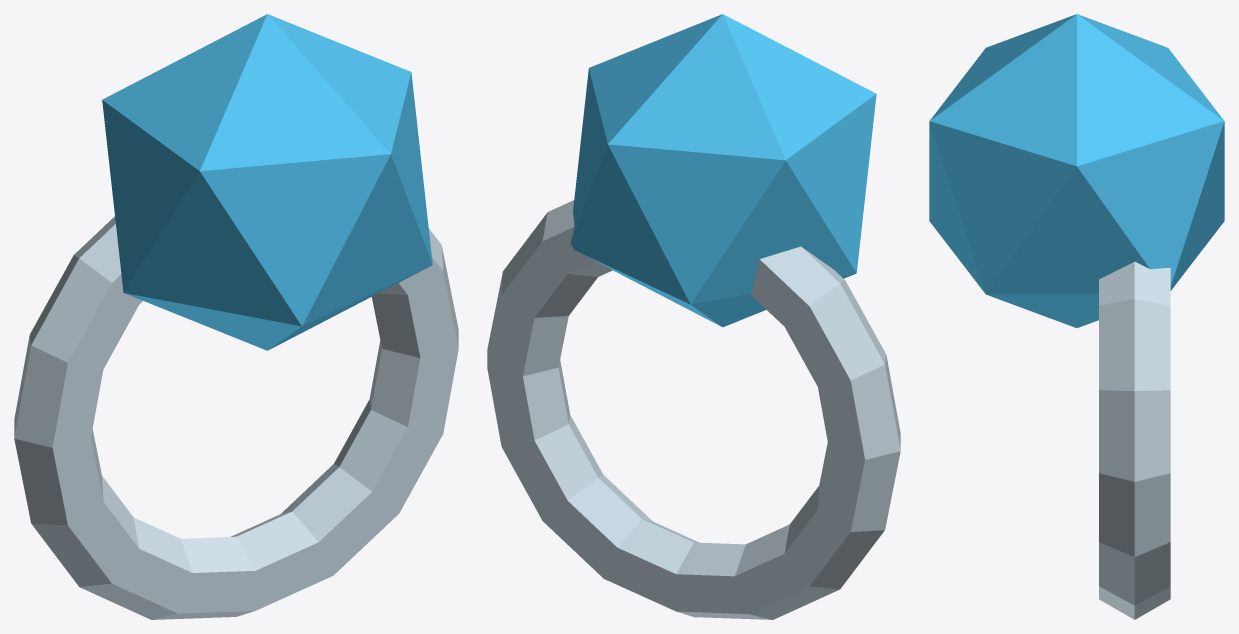
File: moon-ring-1.glb
The picture shows the model from 3 angles, left to right: view 1: azimuth 30°, elevation 25°; view 2: azimuth 150°, elevation 25°; view 3: azimuth 270°, elevation 25°; orthographic projection. The views are drawn at different scales.
Visible parts, largest first — view 1: Icosphere, Torus.002; view 2: Torus.002, Icosphere; view 3: Icosphere, Torus.002.
Part boxes in pixels (box(x1,y1,x2,y2)): Icosphere: box(102, 14, 432, 350); Torus.002: box(14, 216, 458, 619); Torus.002: box(487, 200, 900, 619); Icosphere: box(570, 14, 876, 327); Icosphere: box(929, 14, 1224, 327); Torus.002: box(1099, 261, 1170, 619).
Bounding box in the file's own units: 0.29 × 0.39 × 0.1786.
